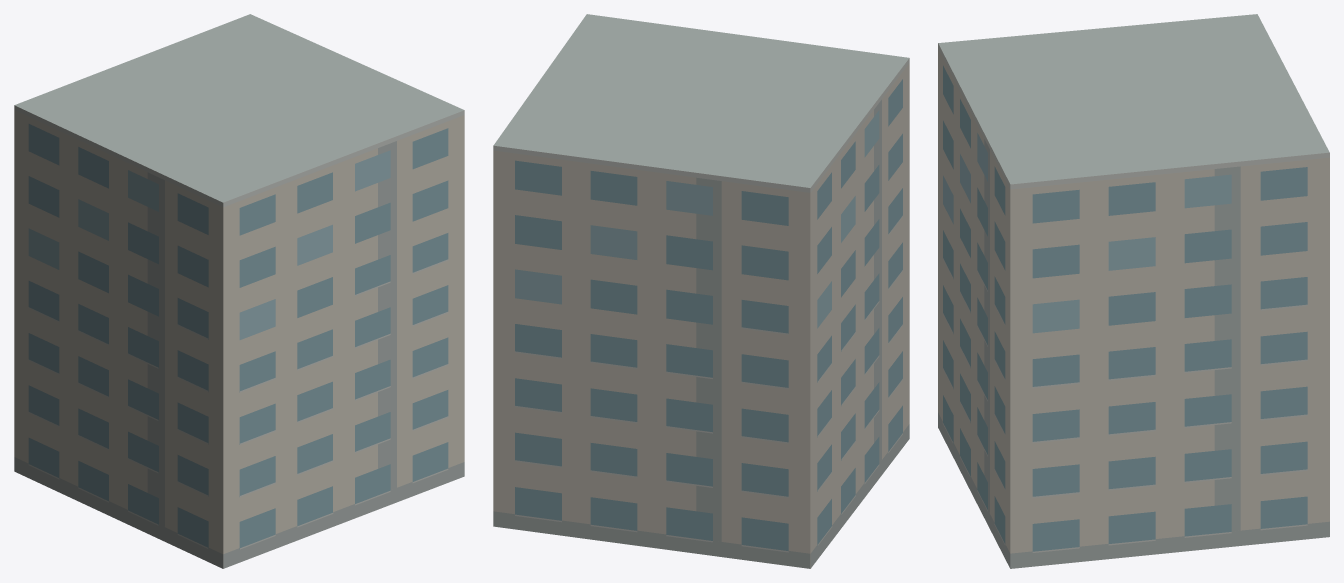
Rendered from survey-upis-32850860.glb.
The picture shows the model from 3 angles, left to right: view 1: azimuth 30°, elevation 25°; view 2: azimuth 150°, elevation 25°; view 3: azimuth 270°, elevation 25°; orthographic projection. The views are drawn at different scales.
Parts seen in each view (by area): view 1: survey-upis-32850860.tmp; view 2: survey-upis-32850860.tmp; view 3: survey-upis-32850860.tmp.
Part boxes in pixels (bbox=[...]): survey-upis-32850860.tmp: bbox=[14, 14, 464, 568]; survey-upis-32850860.tmp: bbox=[493, 14, 909, 568]; survey-upis-32850860.tmp: bbox=[938, 14, 1329, 568].
Bounding box in the file's own units: 17.98 × 18.9 × 17.46.
